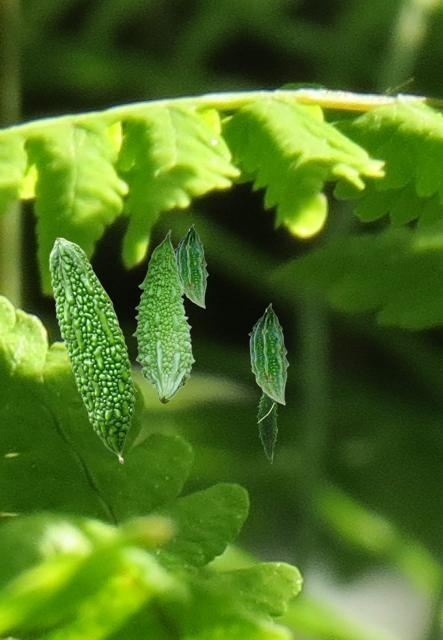ampalaya: (48, 237, 138, 464), (131, 229, 195, 404), (248, 302, 289, 405), (174, 223, 208, 308), (256, 392, 278, 464)
